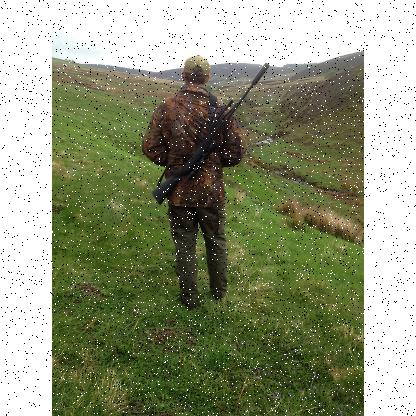gun: (153, 62, 267, 202)
